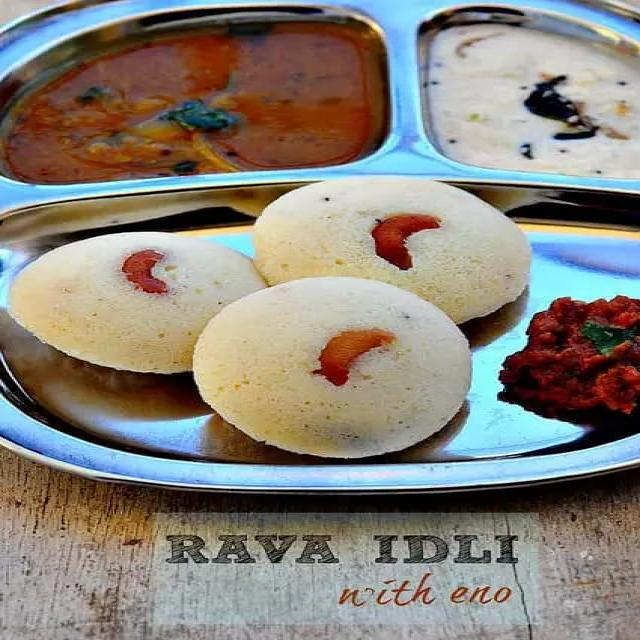rave idli: (190, 270, 491, 466), (250, 168, 551, 328), (10, 220, 272, 384)
